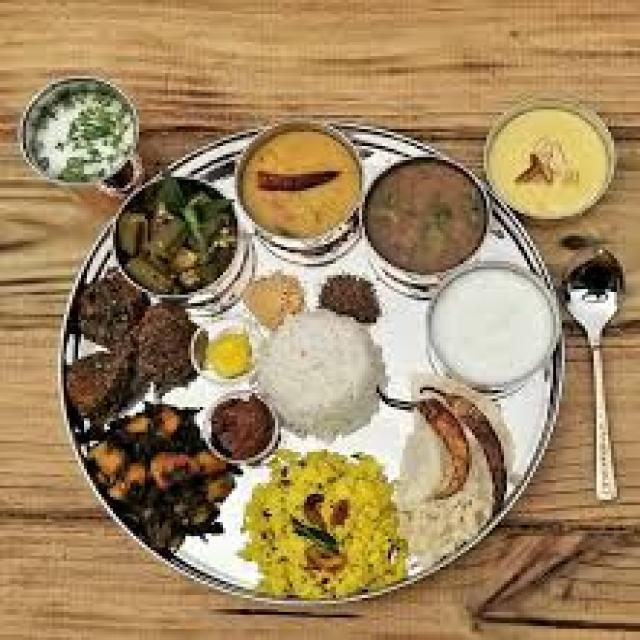curd: (418, 254, 565, 389)
dal: (194, 327, 261, 382)
rice: (215, 434, 412, 599)
roti: (255, 313, 380, 430)
sambar-rasam: (198, 394, 283, 459)
sweet: (227, 126, 368, 245), (62, 351, 135, 419)
veg-fry: (360, 149, 495, 280), (116, 175, 245, 301)
